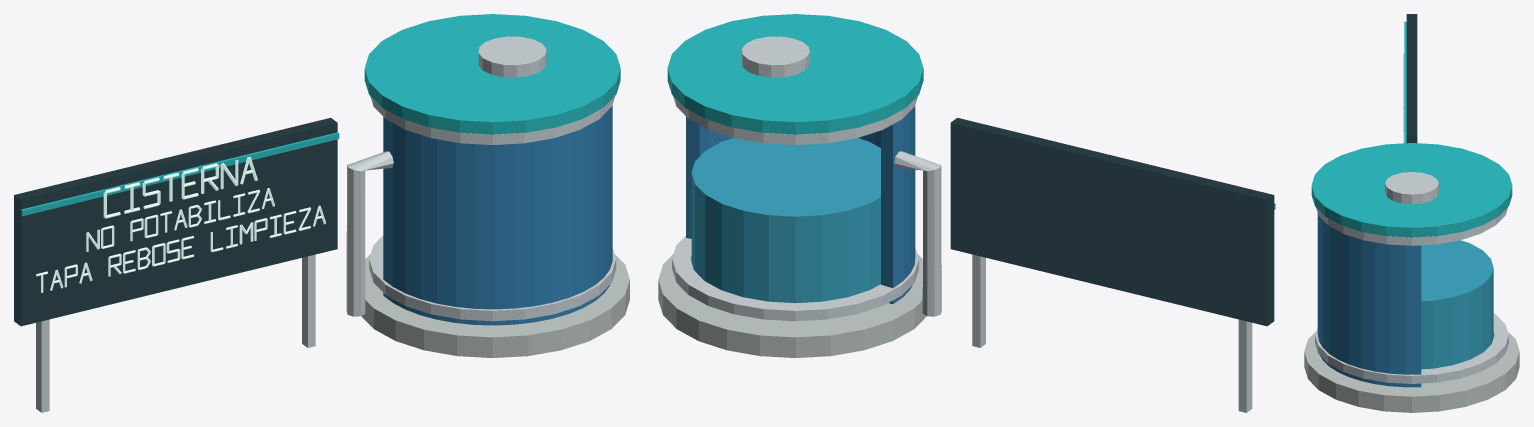
The model's file is AQUA-006.glb.
3 views of the same model, side by side, from view 1: azimuth 30°, elevation 25°; view 2: azimuth 150°, elevation 25°; view 3: azimuth 270°, elevation 25° (orthographic). The views are drawn at different scales.
Parts seen in each view (by area): view 1: AQUA-006; view 2: AQUA-006; view 3: AQUA-006.
Boxes of the visible parts, <box> form: AQUA-006: <box>14,14,629,412</box>; AQUA-006: <box>658,14,1275,412</box>; AQUA-006: <box>1304,14,1519,412</box>.
Bounding box in the file's own units: 6 × 2.36 × 2.4.
